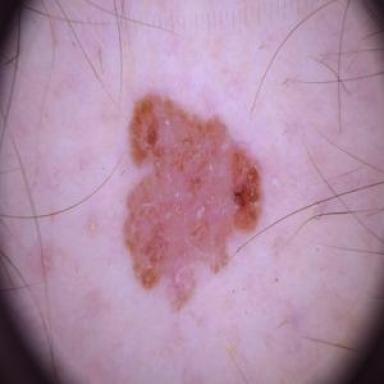Melanoma: (124, 95, 259, 308)
